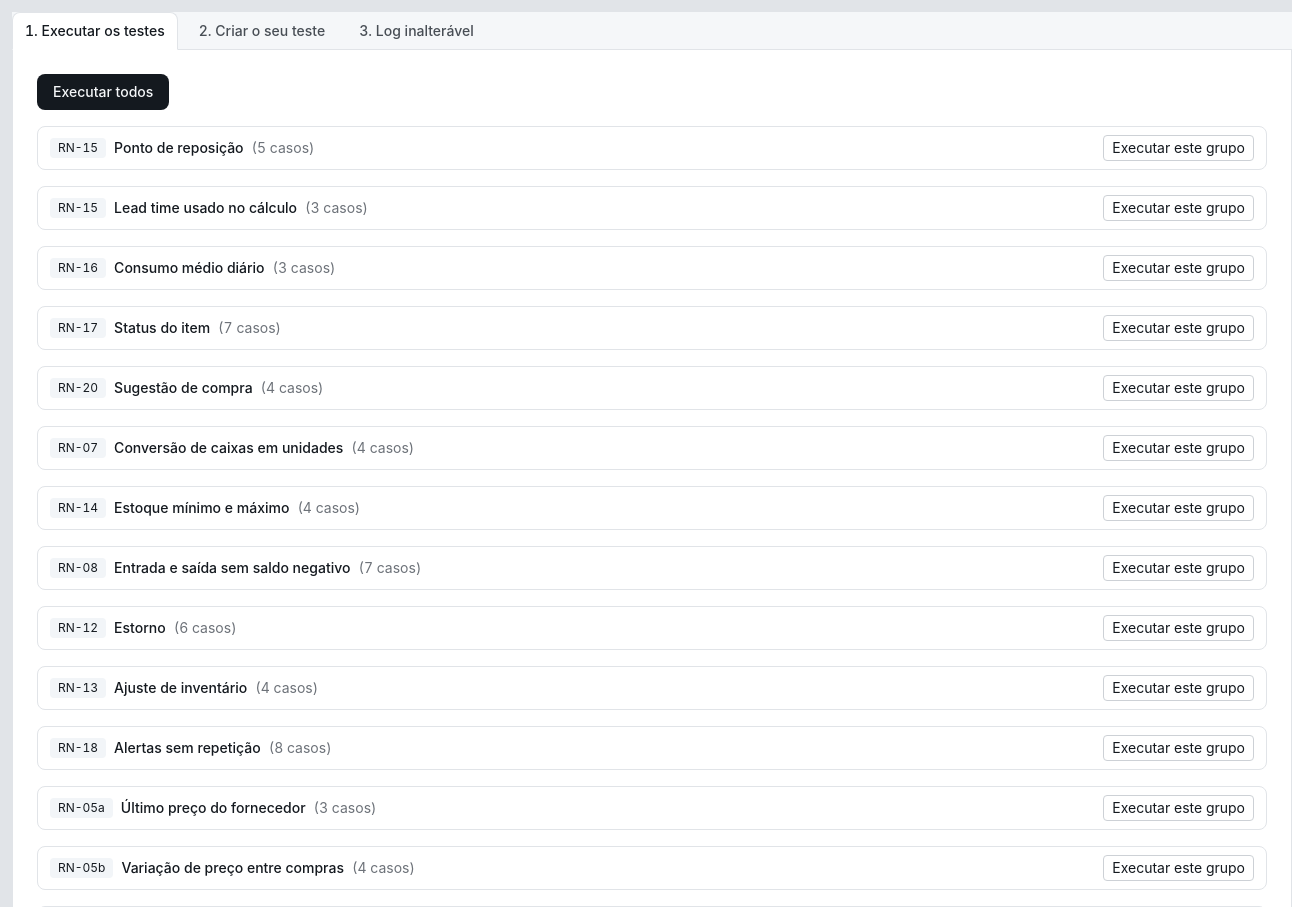
Test: RNF-13 · Laboratório de testes (interface) › aba 3: alterar a quantidade do registro 2 é detectado
Click the tab "3. Log inalterável" at (416, 31), box [346,12,487,50]
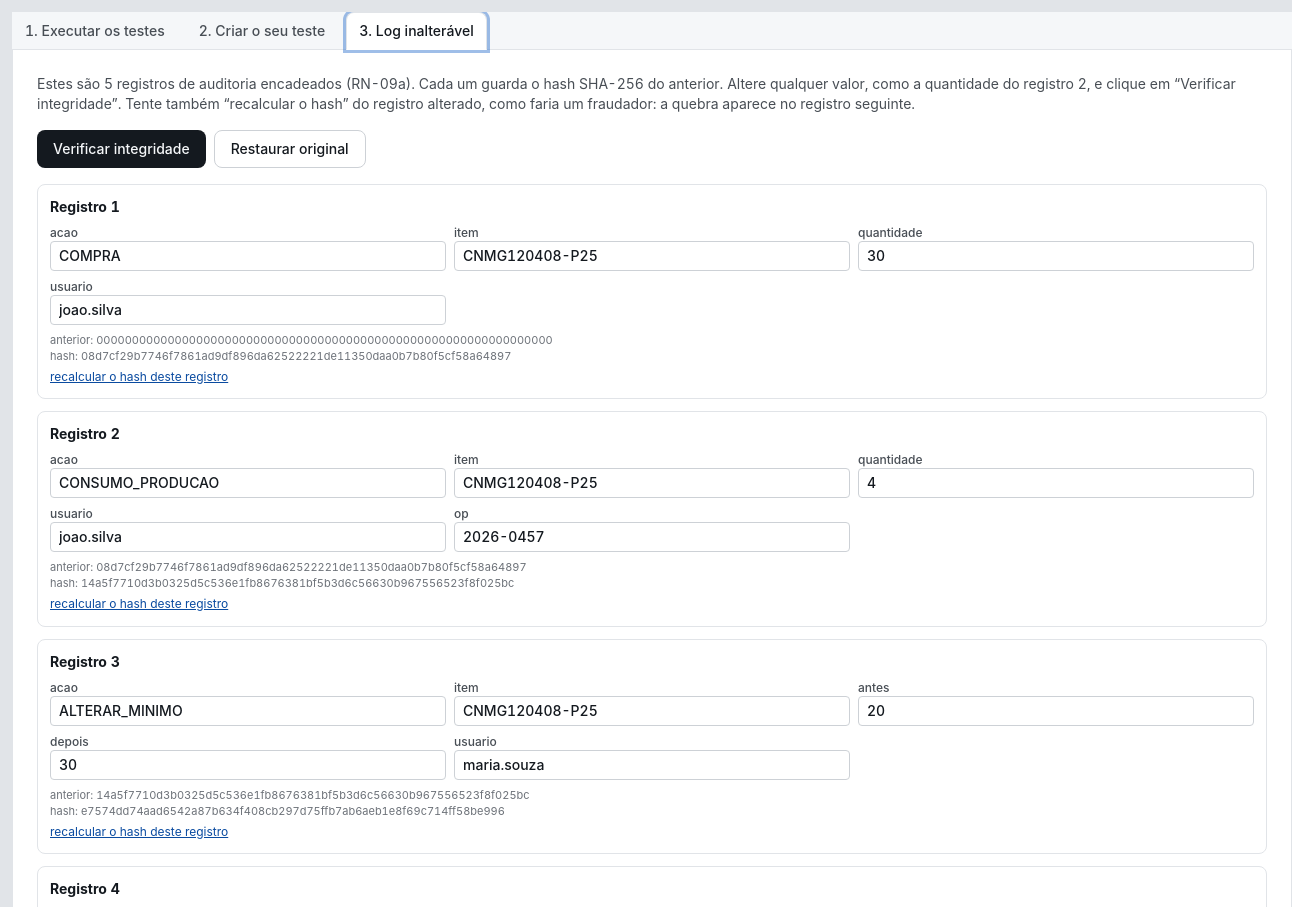
Click the button "Verificar integridade" at (121, 149), box [37,130,206,168]
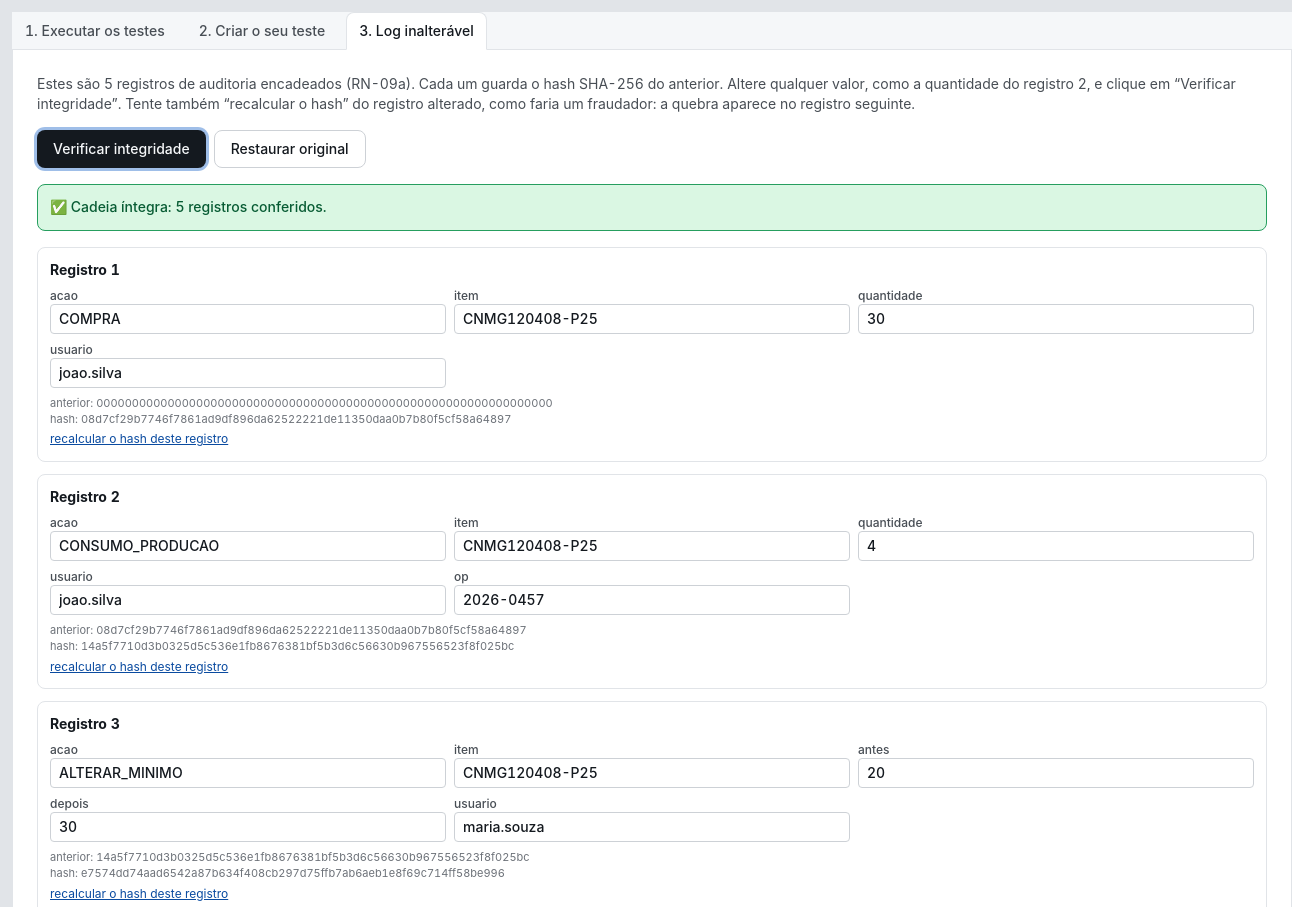
Result: the text "✅ Cadeia íntegra: 5 registros conferidos." is shown at [37,184,1267,231]
Clear the field named "registro 2, quantidade" at (1056, 546), box [858,531,1254,561]
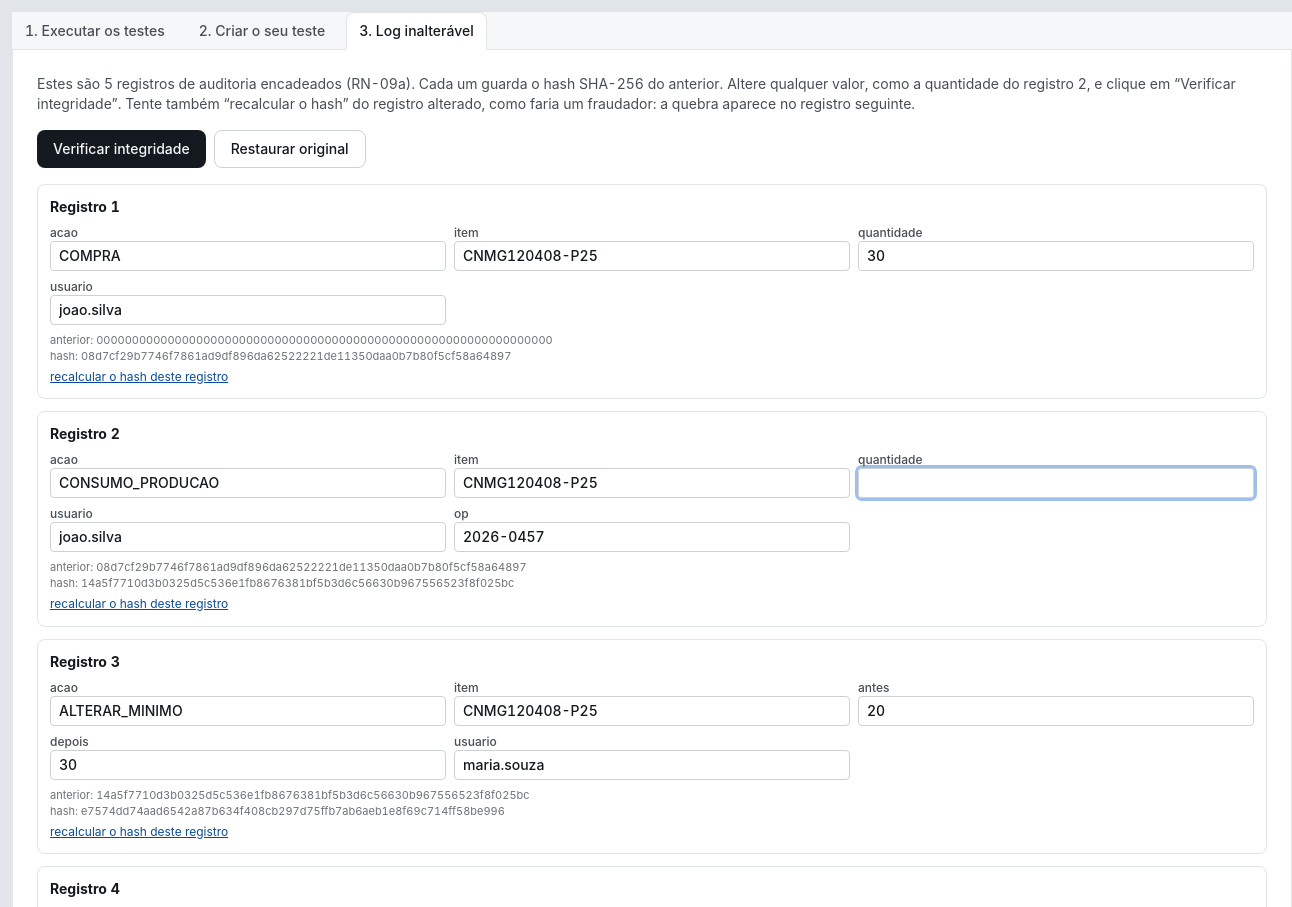
Type "40" into the field named "registro 2, quantidade" at (1056, 484), box [858,468,1254,498]
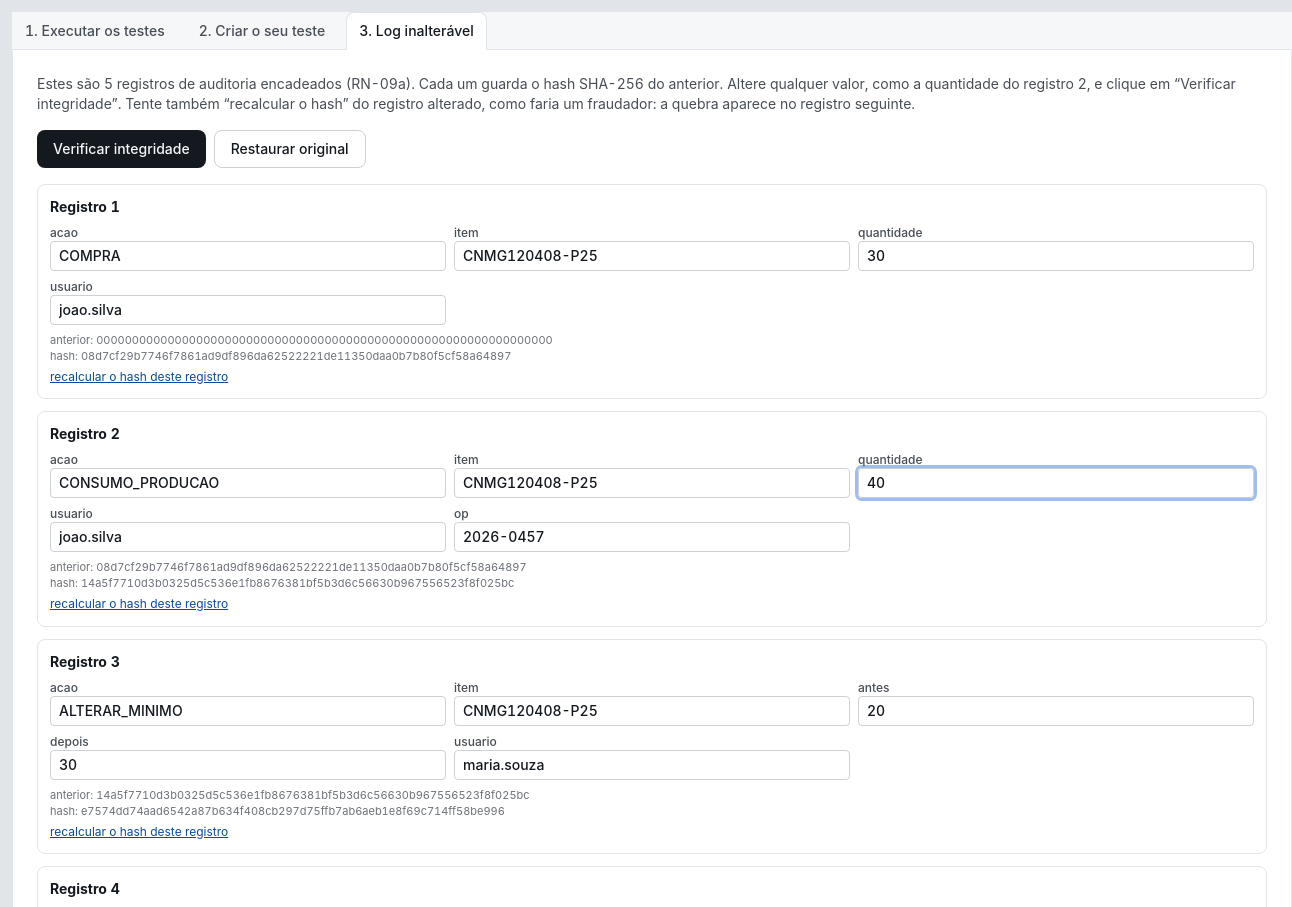
Click the button "Verificar integridade" at (121, 149), box [37,130,206,168]
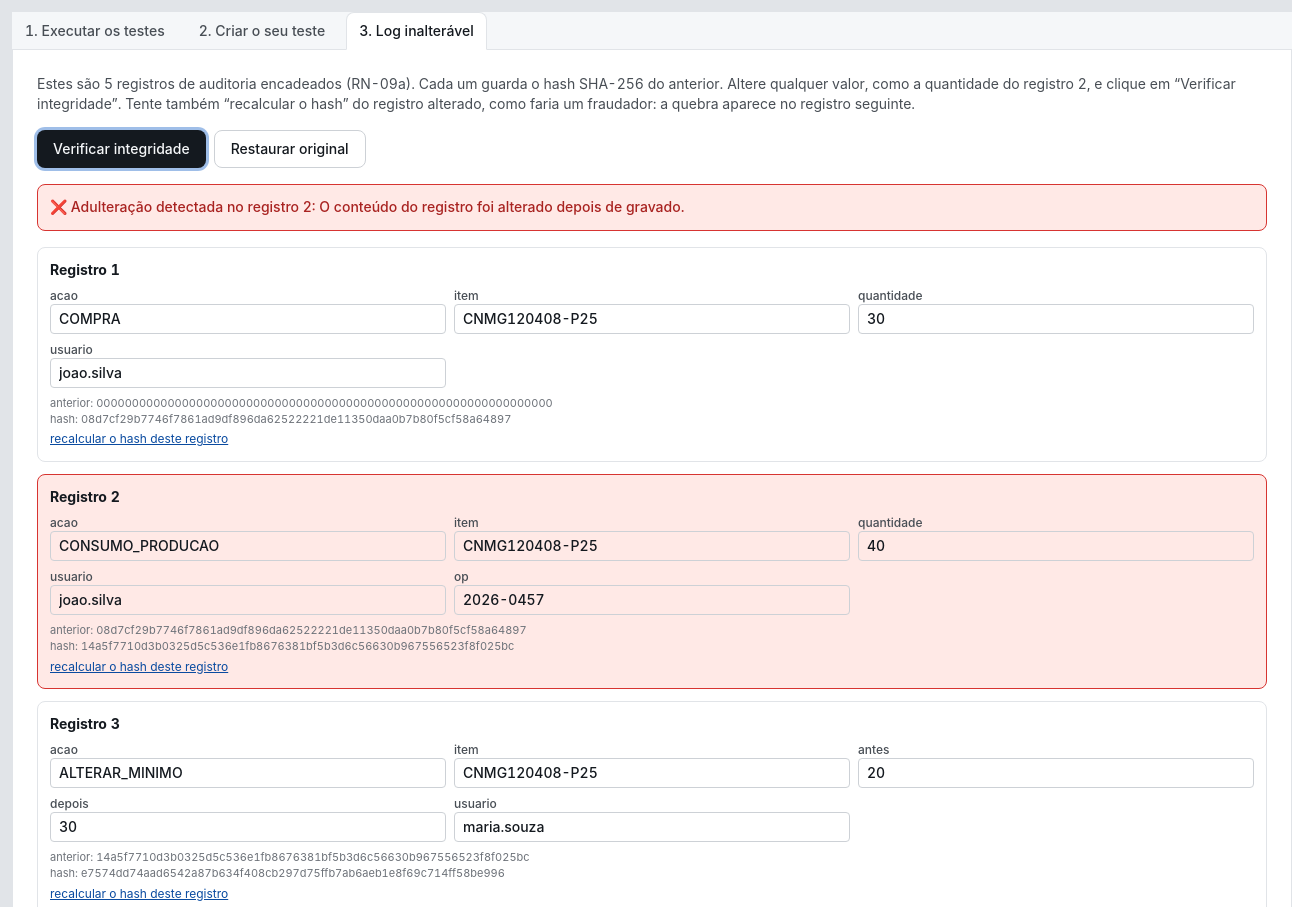
Result: the text "❌ Adulteração detectada no registro 2: O conteúdo do registro foi alterado depois de gravado." is shown at [50,198,684,215]
